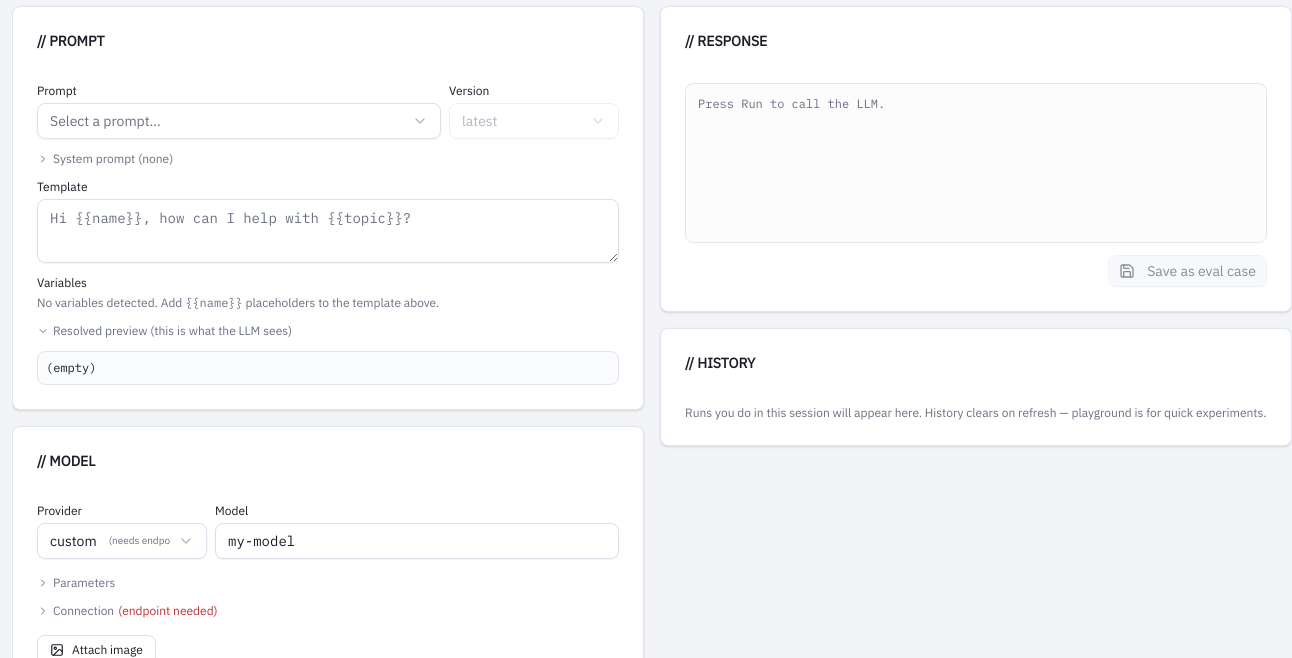
Test: PlaygroundPage › holds Run until a provider without a default endpoint gets one (P10i)
Type "hi" into the text box labelled "Template" at (328, 231), box x1=37 y1=199 x2=619 y2=263
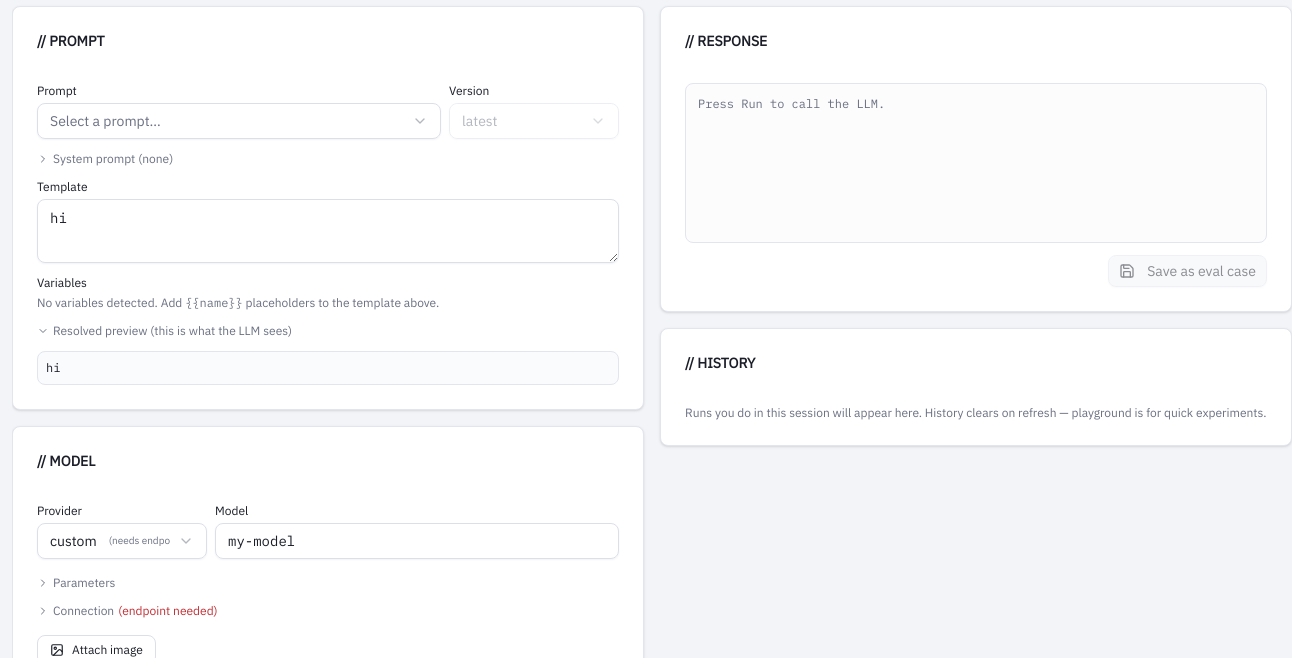
Click the button "Connection (endpoint needed)" at (127, 611), box x1=37 y1=603 x2=218 y2=619
(page scrolled)
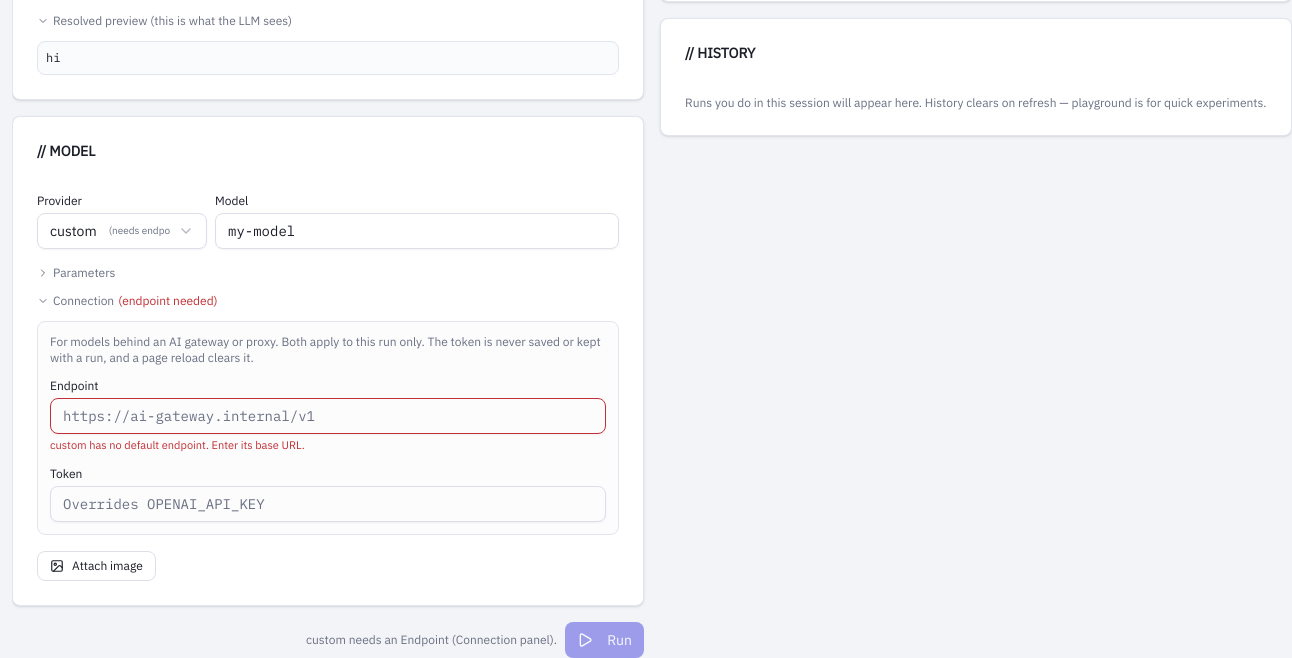
Type "http://localhost:8000/v1" into the field labelled "Endpoint" at (328, 416), box x1=50 y1=398 x2=606 y2=434
(page scrolled)
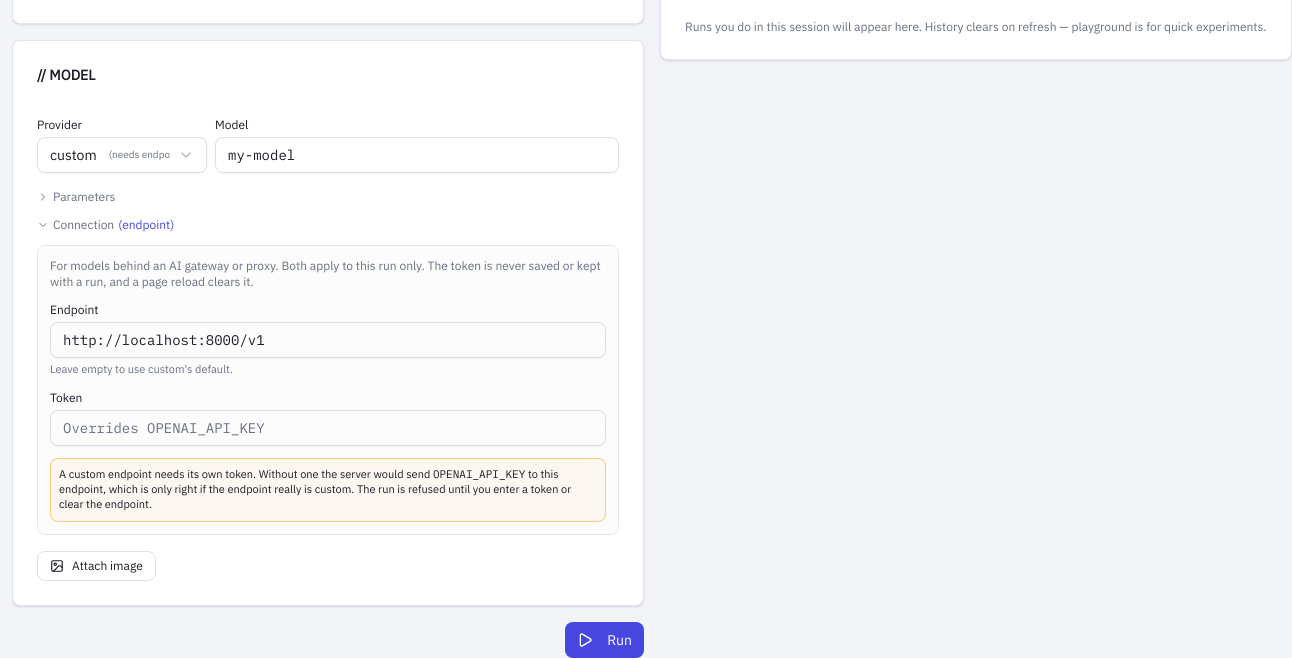
Now the button "Run" is enabled, box x1=565 y1=622 x2=644 y2=657
Now the text with test id "run-blocked-reason" is gone
